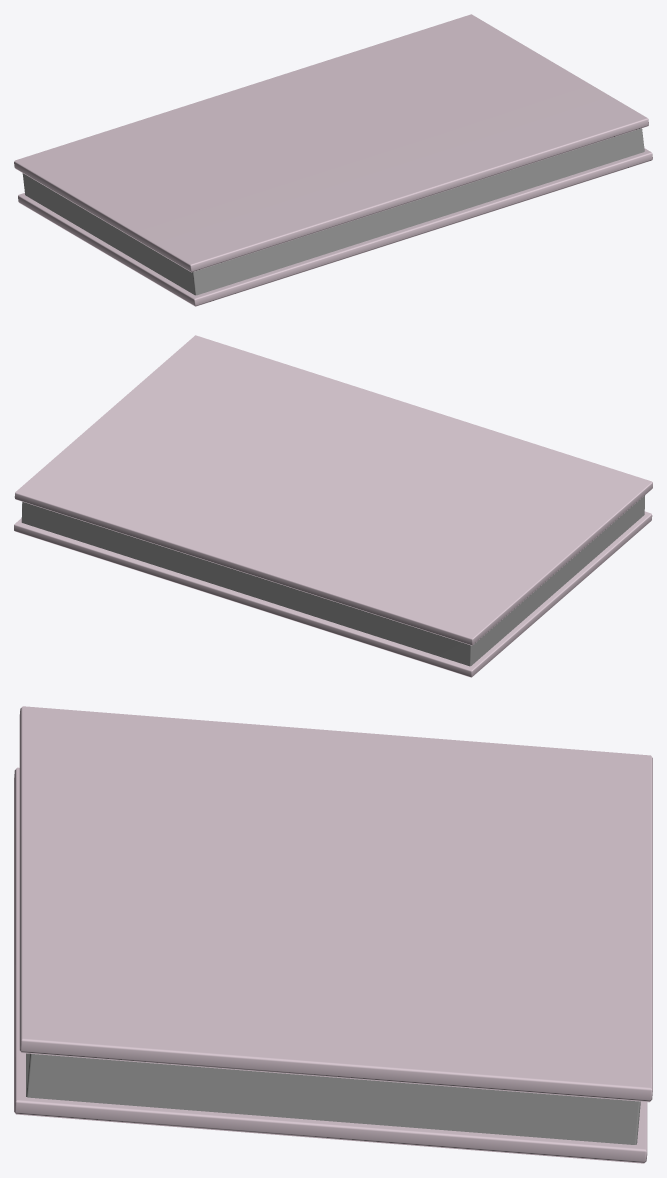
File: mod_sc_roma_topcheese_004.fbx
The picture shows the model from 3 angles, top to bottom: view 1: azimuth 30°, elevation 25°; view 2: azimuth 150°, elevation 25°; view 3: azimuth 270°, elevation 25°; orthographic projection. The views are drawn at different scales.
Parts seen in each view (by area): view 1: mod_sc_roma_001_ar02_top_004; view 2: mod_sc_roma_001_ar02_top_004; view 3: mod_sc_roma_001_ar02_top_004.
Boxes of the visible parts, <box> form: mod_sc_roma_001_ar02_top_004: <box>14,14,652,306</box>; mod_sc_roma_001_ar02_top_004: <box>14,335,652,677</box>; mod_sc_roma_001_ar02_top_004: <box>14,706,652,1163</box>.
Size of what is drawn, in the model's own units: 2787 by 596 by 1886.
2 materials, 1 textured.
